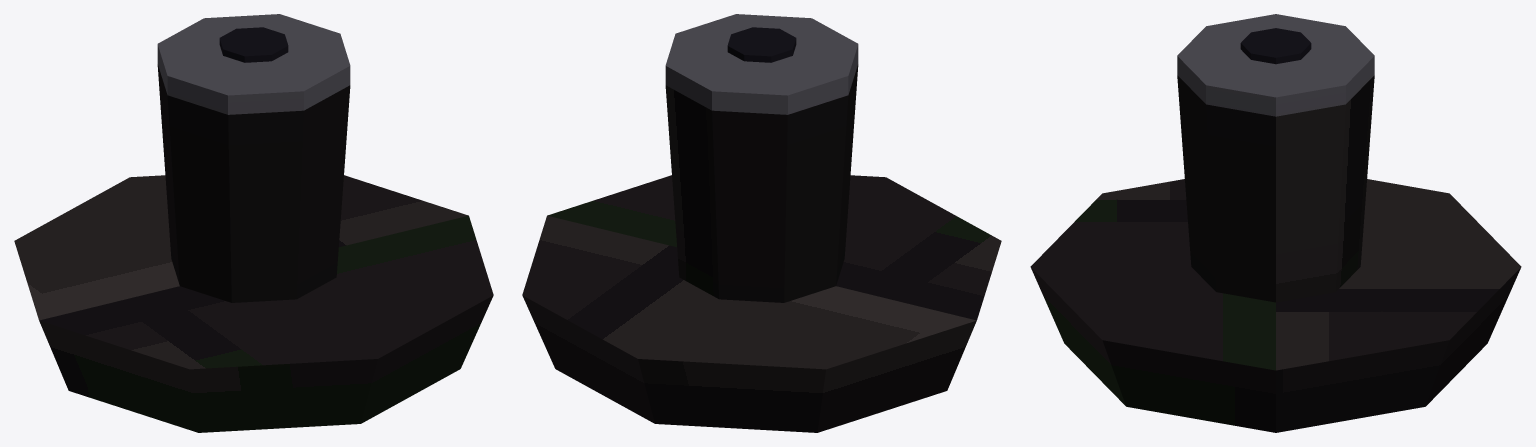
The model's file is peg_empty.glb.
The picture shows the model from 3 angles, left to right: view 1: azimuth 30°, elevation 25°; view 2: azimuth 150°, elevation 25°; view 3: azimuth 270°, elevation 25°; orthographic projection.
Visible parts, largest first — view 1: peg_empty; view 2: peg_empty; view 3: peg_empty.
Part boxes in pixels (left/top/right/bottom): peg_empty: left=14, top=14, right=493, bottom=432; peg_empty: left=522, top=14, right=1001, bottom=432; peg_empty: left=1030, top=14, right=1521, bottom=432.
Bounding box in the file's own units: 0.696 × 0.47 × 0.696.
3 materials, 1 textured.
